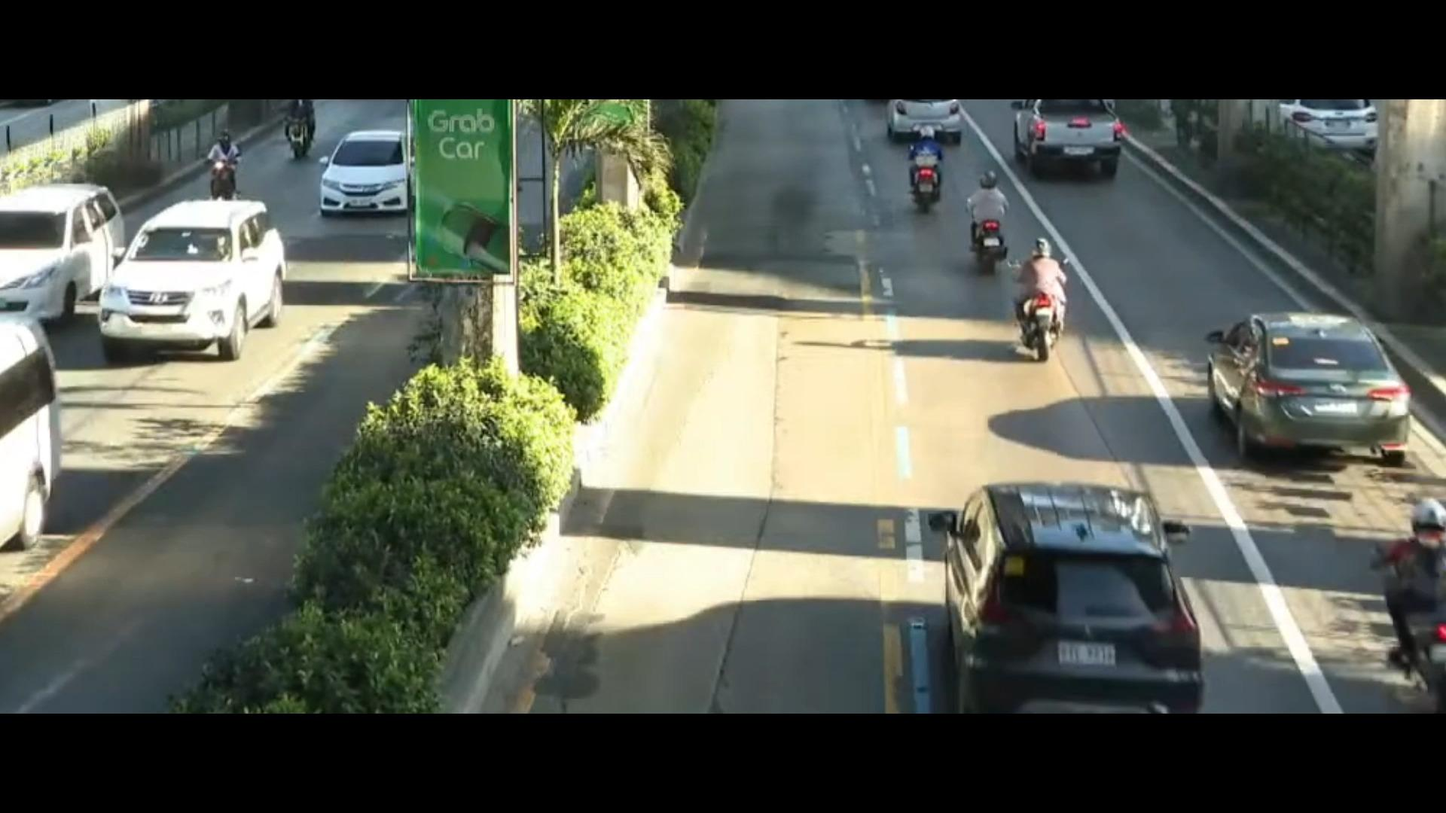Motorcycle: (1369, 465, 1446, 697), (1009, 224, 1081, 357), (956, 162, 1013, 261), (212, 119, 260, 208), (912, 125, 953, 209), (281, 100, 330, 142)
Pickup: (1004, 96, 1149, 184)
SUV: (870, 422, 1228, 705), (73, 190, 287, 380), (0, 157, 125, 303)
Sedan: (1179, 290, 1417, 487), (308, 126, 412, 237)
Van: (0, 290, 70, 557)
